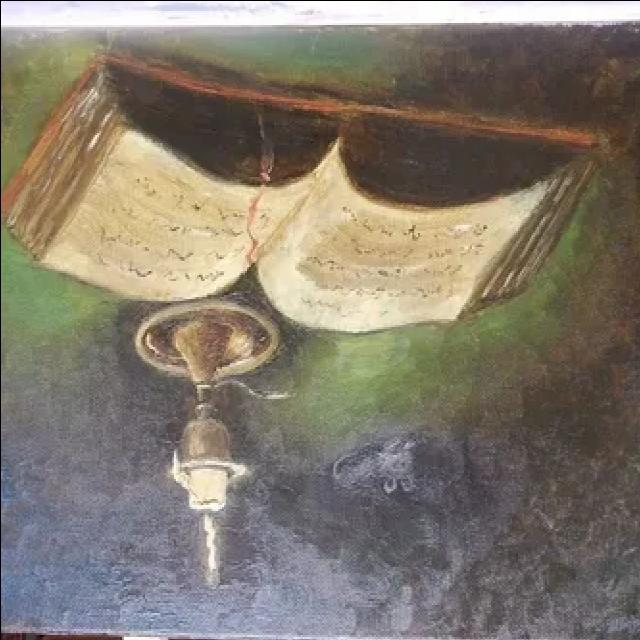book: (0, 53, 602, 340)
